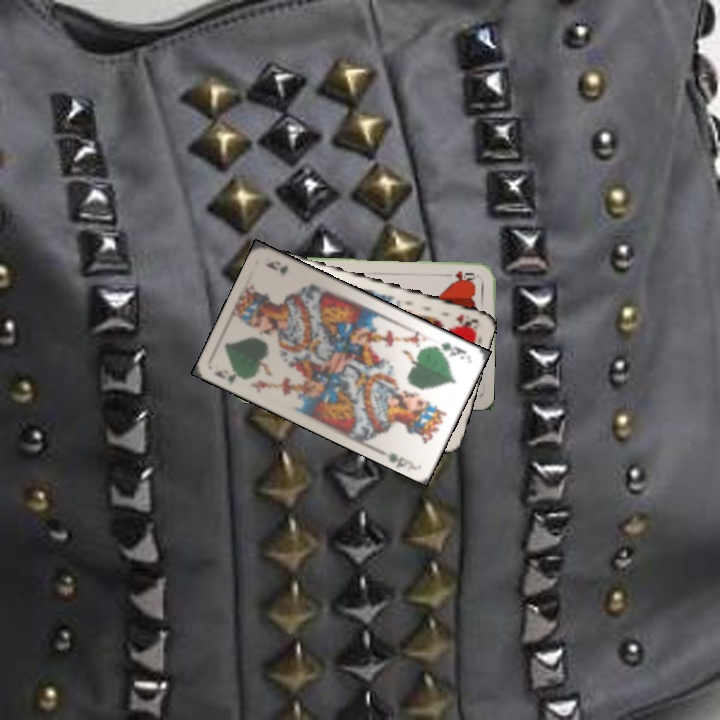GK: (430, 338, 470, 362), (210, 366, 251, 387)
HK: (451, 310, 480, 331)
HO: (441, 266, 481, 285)
